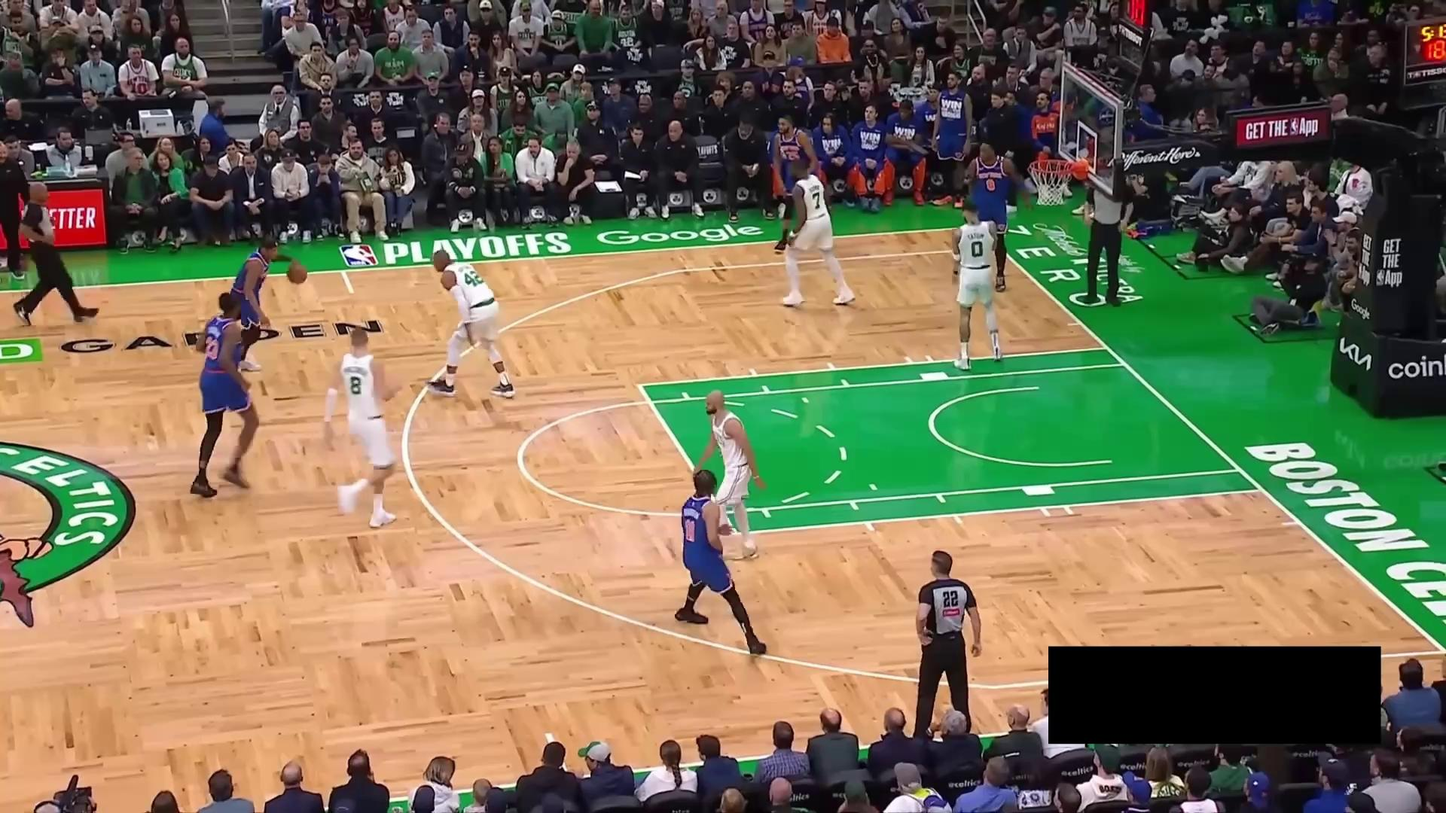ball: (288, 262, 307, 284)
number: (203, 335, 219, 360), (463, 269, 484, 287), (684, 518, 697, 543), (349, 375, 362, 395), (971, 240, 984, 258), (785, 151, 801, 161), (812, 192, 821, 209), (986, 178, 996, 191)
player: (674, 470, 768, 658), (324, 327, 404, 529), (190, 291, 260, 498), (424, 248, 517, 400), (691, 388, 767, 561), (780, 157, 856, 308), (959, 139, 1033, 294), (948, 199, 1007, 372), (771, 113, 824, 254)
player-in-possession: (226, 234, 308, 372)
referee: (910, 550, 983, 738), (12, 181, 101, 327), (1081, 184, 1134, 307)
rim: (1027, 158, 1075, 175)
